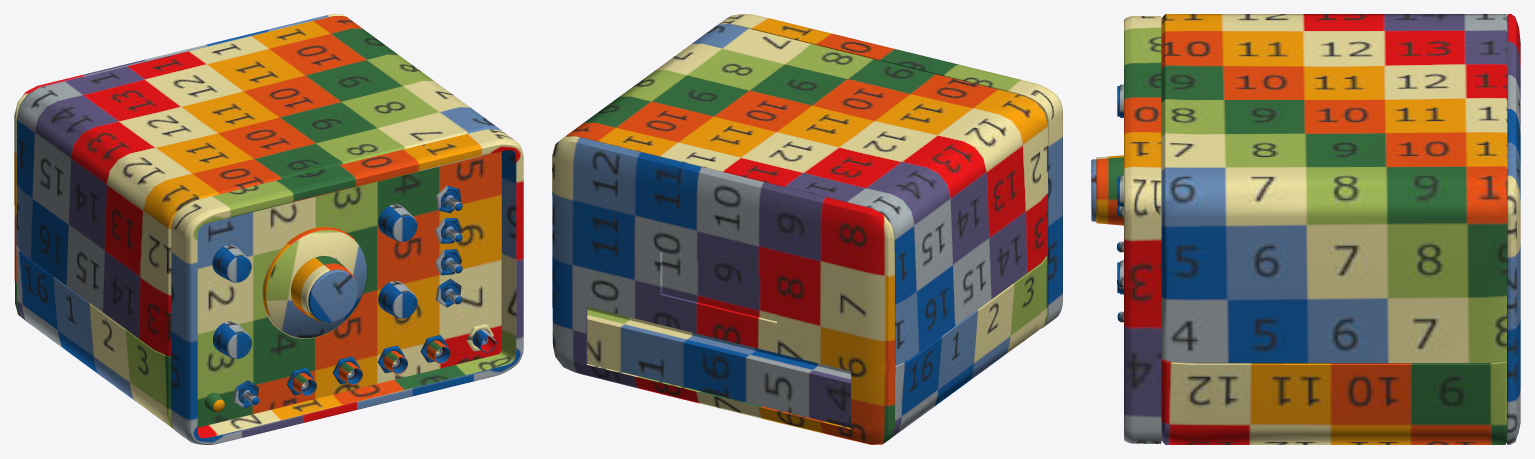
The model's file is Sweep.fbx.
The picture shows the model from 3 angles, left to right: view 1: azimuth 30°, elevation 25°; view 2: azimuth 150°, elevation 25°; view 3: azimuth 270°, elevation 25°; orthographic projection. The views are drawn at different scales.
Visible parts, largest first — view 1: Case_low, Plate_low, Frame_low, RoundPlate_low, BigDial1_low, Dial1_low, Dial4_low, Dial2_low, Dial3_low, Jack_02_low, Jack_03_low, Jack_01_low (+2 smaller); view 2: Case_low, Power_low, Frame_low; view 3: Case_low, Frame_low, BigDial1_low.
Boxes of the visible parts, x1,y1,x2,y2 form: Case_low: (14,14,501,429); Plate_low: (197,151,501,427); Frame_low: (171,129,523,444); RoundPlate_low: (262,227,367,338); BigDial1_low: (291,256,357,322); Dial1_low: (212,245,251,282); Dial4_low: (378,281,417,318); Dial2_low: (378,204,417,241); Dial3_low: (213,321,251,358); Jack_02_low: (333,356,362,385); Jack_03_low: (378,345,407,374); Jack_01_low: (287,367,316,396); Case_low: (552,24,1047,444); Power_low: (587,307,850,427); Frame_low: (719,14,1062,328); Case_low: (1161,14,1520,444); Frame_low: (1124,16,1161,443); BigDial1_low: (1091,155,1123,225).
Bounding box in the file's own units: 28.05 × 18.09 × 26.58.
1 material, 1 textured.
